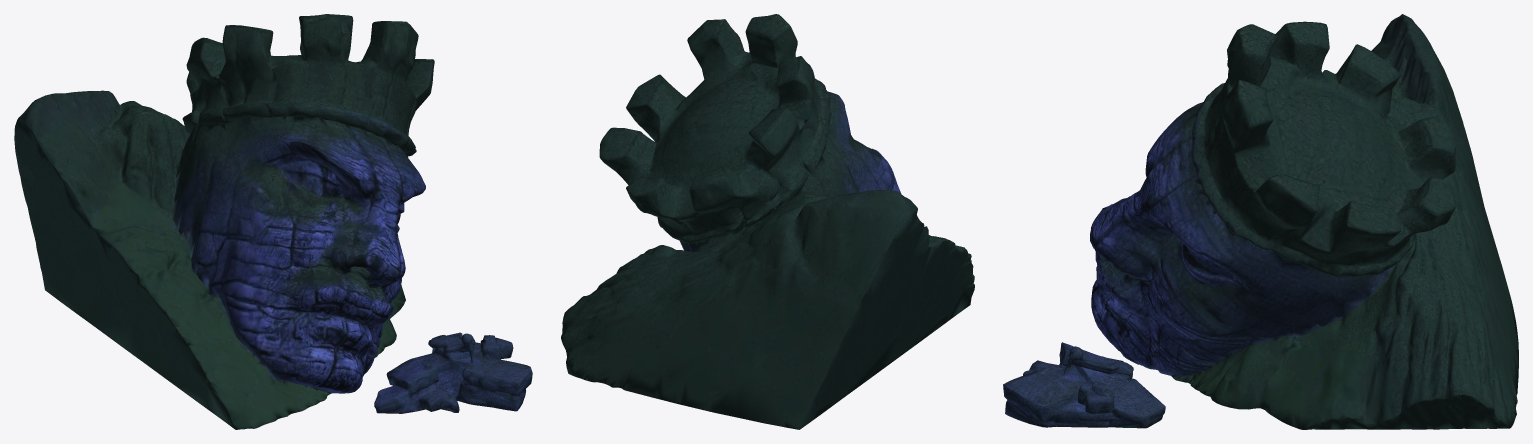
Rendered from crowned-head.glb.
The picture shows the model from 3 angles, left to right: view 1: azimuth 30°, elevation 25°; view 2: azimuth 150°, elevation 25°; view 3: azimuth 270°, elevation 25°; orthographic projection. The views are drawn at different scales.
Bounding box in the file's own units: 1.61 × 1.41 × 1.9.
1 material, 1 textured.
